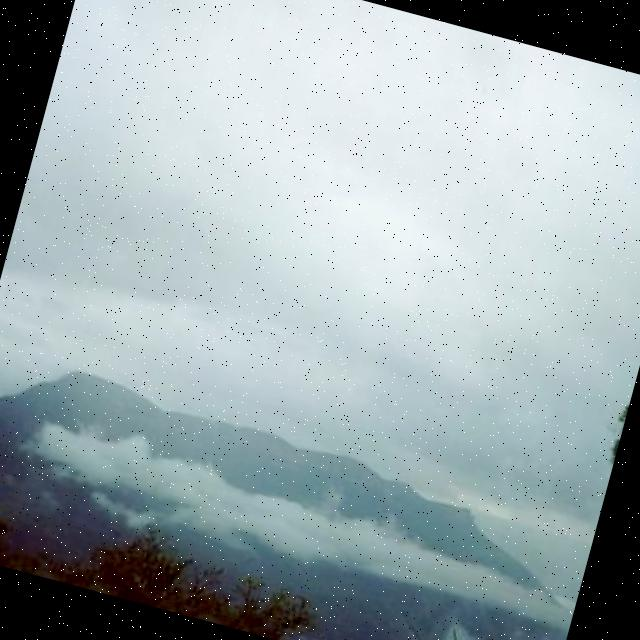Sc: (1, 1, 640, 503)
